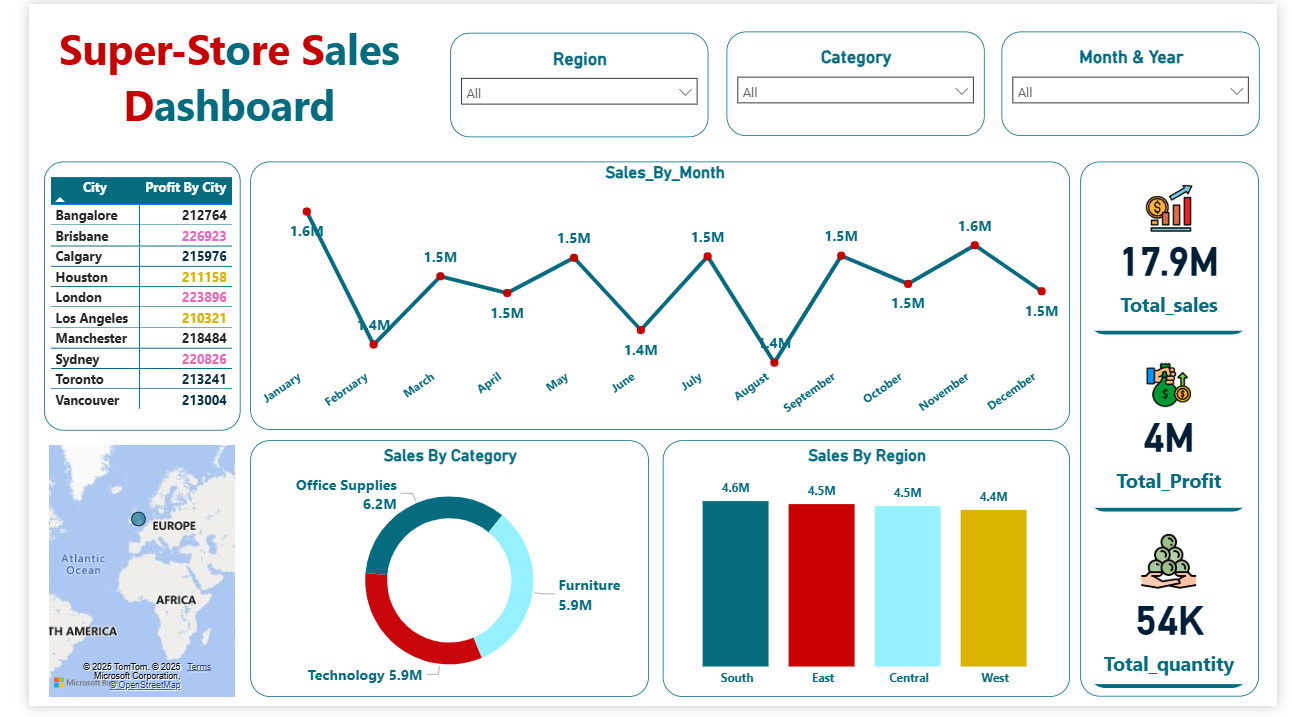

This screenshot's page, from the dashboard's own definition file:
{"tool":"powerbi","page":{"name":"Dashboard","canvas":[1280,720],"ordinal":0},"visuals":[{"type":"cardVisual","fields":{"Data":["superstore_sales_large.Total_sales","superstore_sales_large.Total_Profit","Sum(superstore_sales_large.quantity)"]},"box":[1078.6,161.4,182.9,548.6],"z":0},{"type":"textbox","box":[15.7,11.4,380,141.4],"z":1000},{"type":"donutChart","title":"Sales By Category","fields":{"Category":["superstore_sales_large.category"],"Y":["superstore_sales_large.Total_sales"]},"box":[227.1,447.1,409,262.9],"z":1000,"group":"g2"},{"type":"lineChart","title":"Sales_By_Month","fields":{"Category":["CustDate.date.Variation.Date Hierarchy.Year","CustDate.date.Variation.Date Hierarchy.Quarter","CustDate.date.Variation.Date Hierarchy.Month","CustDate.date.Variation.Date Hierarchy.Day"],"Y":["superstore_sales_large.Total_sales"]},"box":[227,161.4,842,275.7],"z":2000},{"type":"columnChart","title":"Sales By Region","fields":{"Category":["superstore_sales_large.region"],"Y":["superstore_sales_large.Total_sales"]},"box":[650.7,447.1,417.8,262.9],"z":2000,"group":"g2"},{"type":"tableEx","fields":{"Values":["superstore_sales_large.city","Sum(superstore_sales_large.profit_column)"]},"box":[15.7,161.4,201.4,275.7],"z":3000},{"type":"group","id":"g1","title":"Group 1","box":[431.4,28.6,830,108.6],"z":4000},{"type":"slicer","title":"Category","fields":{"Values":["superstore_sales_large.category"]},"box":[714.9,28.6,264.6,107.1],"z":5000,"group":"g1"},{"type":"group","id":"g2","title":"Group 2","box":[227.1,447.1,841.4,262.9],"z":5000},{"type":"map","fields":{"Size":["superstore_sales_large.Total_Profit"],"Category":["superstore_sales_large.country"]},"box":[15.7,447.1,201.4,262.9],"z":6000},{"type":"slicer","title":"Region","fields":{"Values":["superstore_sales_large.region"]},"box":[431.4,30,264.6,107.1],"z":7000,"group":"g1"},{"type":"slicer","title":"Month & Year","fields":{"Values":["CustDate.date.Variation.Date Hierarchy.Year","CustDate.date.Variation.Date Hierarchy.Month"]},"box":[996.8,28.6,264.6,107.1],"z":9000,"group":"g1"}]}

Visuals, with their boxes in screenshot pixels (x1, y1, x2, y2), scaled from the page's 1280x720 canvas onto the 1292x717 screenshot:
cardVisual - superstore_sales_large.Total_sales x superstore_sales_large.Total_Profit: rect(1089, 161, 1273, 707)
textbox: rect(16, 11, 399, 152)
"Sales By Category" donutChart: rect(229, 445, 642, 707)
"Sales_By_Month" lineChart: rect(229, 161, 1079, 435)
"Sales By Region" columnChart: rect(657, 445, 1079, 707)
tableEx - superstore_sales_large.city x Sum(superstore_sales_large.profit_column): rect(16, 161, 219, 435)
"Group 1" group: rect(435, 28, 1273, 137)
"Category" slicer: rect(722, 28, 989, 135)
"Group 2" group: rect(229, 445, 1079, 707)
map - superstore_sales_large.Total_Profit x superstore_sales_large.country: rect(16, 445, 219, 707)
"Region" slicer: rect(435, 30, 703, 137)
"Month & Year" slicer: rect(1006, 28, 1273, 135)
